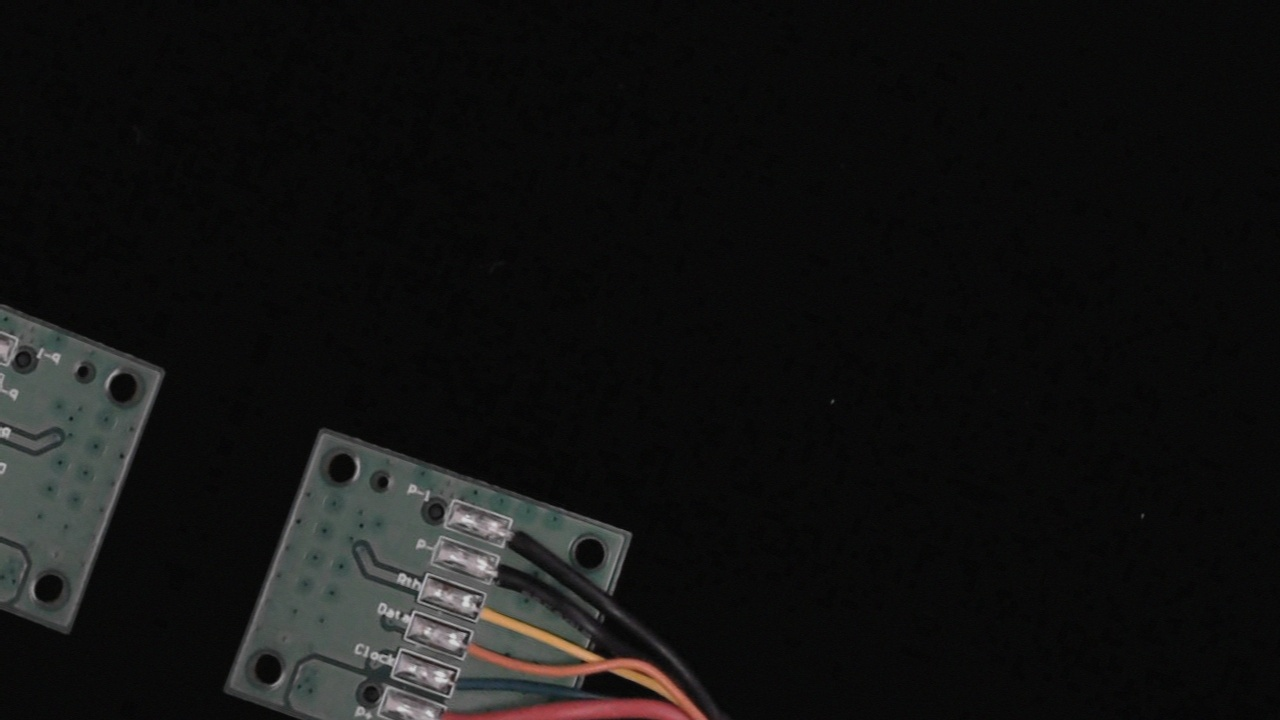Black: (473, 550, 545, 604)
Black1: (486, 510, 560, 564)
Green: (432, 661, 501, 713)
Orange: (445, 624, 512, 676)
Red: (420, 699, 498, 720)
Yellow: (457, 588, 528, 639)
